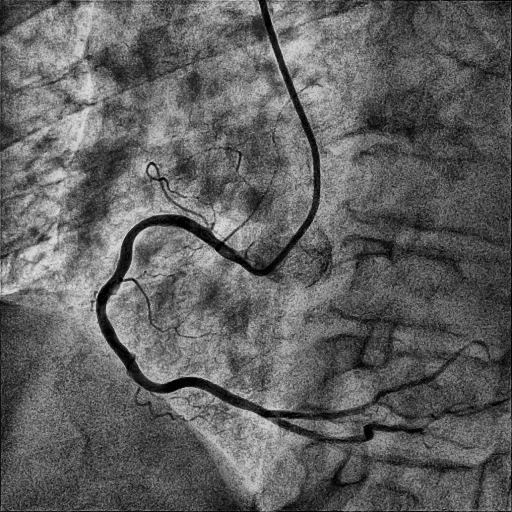pborca: (273, 383, 409, 420)
pda: (267, 404, 456, 444)
rca: (96, 215, 276, 419)
